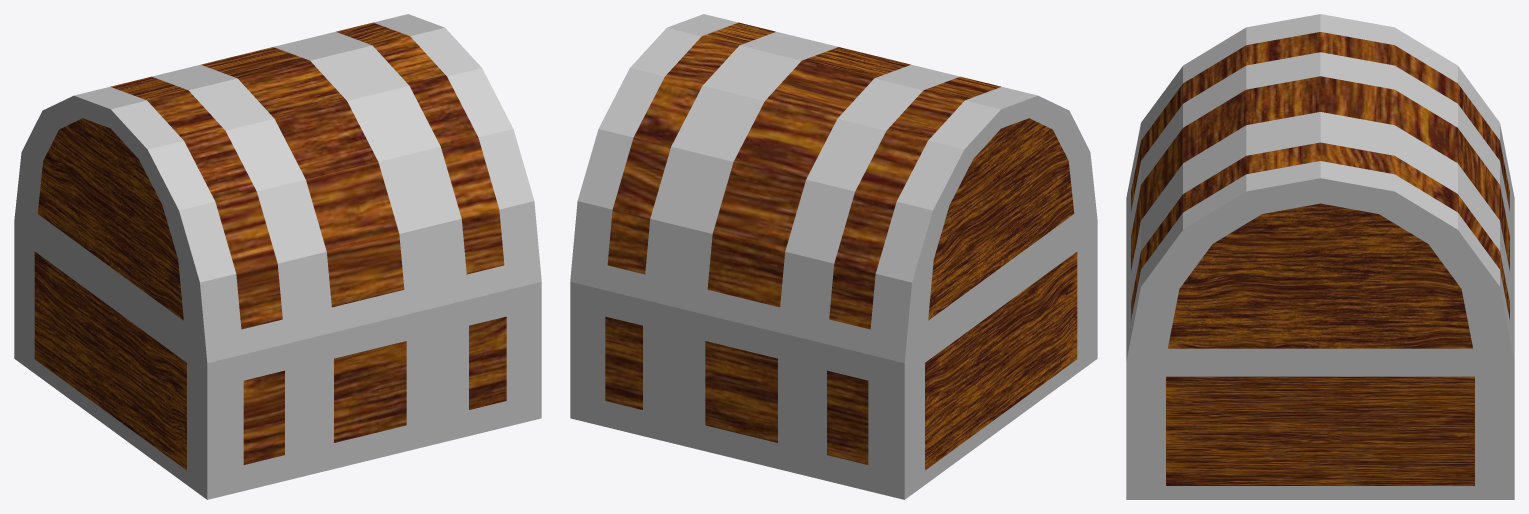
Rendered from treasure.fbx.
The picture shows the model from 3 angles, left to right: view 1: azimuth 30°, elevation 25°; view 2: azimuth 150°, elevation 25°; view 3: azimuth 270°, elevation 25°; orthographic projection.
Visible parts, largest first — view 1: 円柱; view 2: 円柱; view 3: 円柱.
Part boxes in pixels (box(x1,y1,x2,y2)): 円柱: box(14, 14, 541, 499); 円柱: box(570, 14, 1097, 499); 円柱: box(1126, 14, 1514, 499).
Bounding box in the file's own units: 200 × 183 × 200.
